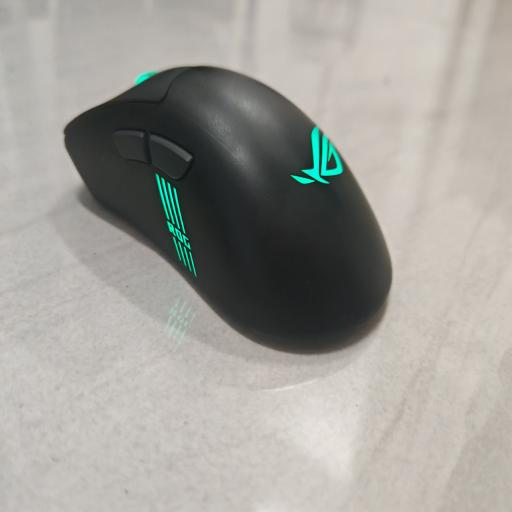mouse: (64, 66, 392, 343)
